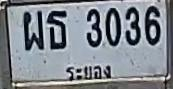0: (105, 7, 120, 45)
3: (124, 6, 140, 45), (86, 8, 101, 46)
6: (144, 5, 160, 45)
A24: (46, 10, 66, 49)
A28: (22, 10, 43, 50)
RYG: (63, 62, 113, 82)
